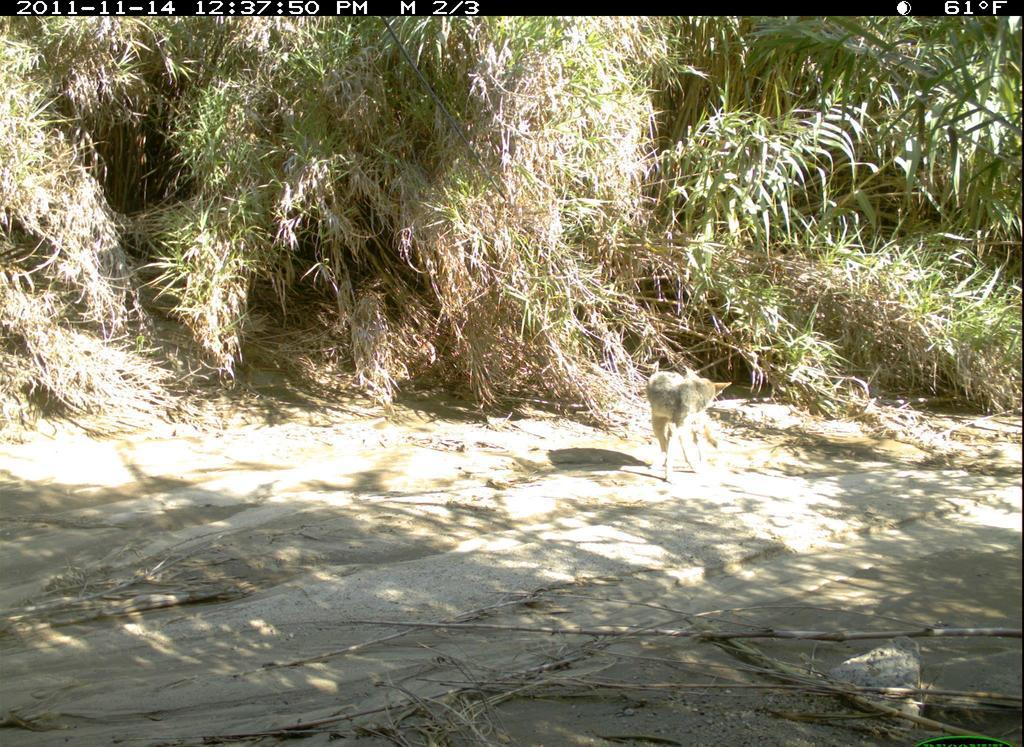coyote: (646, 360, 735, 495)
